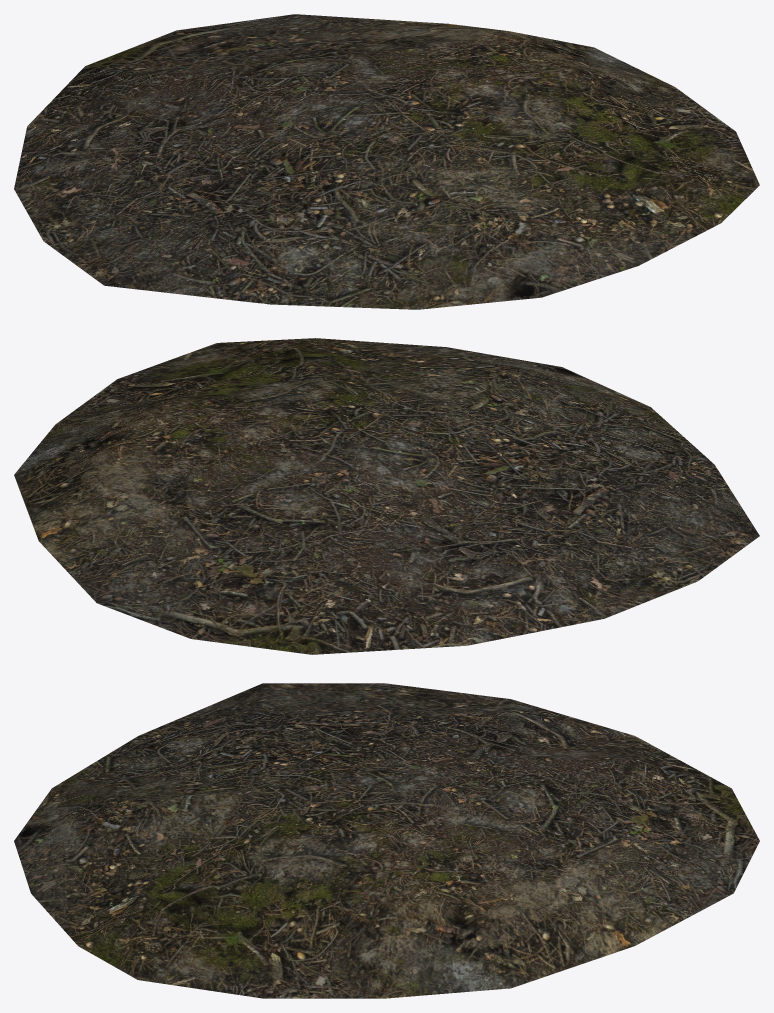
Rendered from dirt_mould_remastered_pile.dae.
The picture shows the model from 3 angles, top to bottom: view 1: azimuth 30°, elevation 25°; view 2: azimuth 150°, elevation 25°; view 3: azimuth 270°, elevation 25°; orthographic projection. The views are drawn at different scales.
Parts seen in each view (by area): view 1: pPlane2; view 2: pPlane2; view 3: pPlane2.
Part boxes in pixels (bbox=[...]): pPlane2: bbox=[14, 14, 759, 309]; pPlane2: bbox=[14, 338, 759, 654]; pPlane2: bbox=[14, 683, 759, 998].
Bounding box in the file's own units: 3 × 0.2553 × 3.
